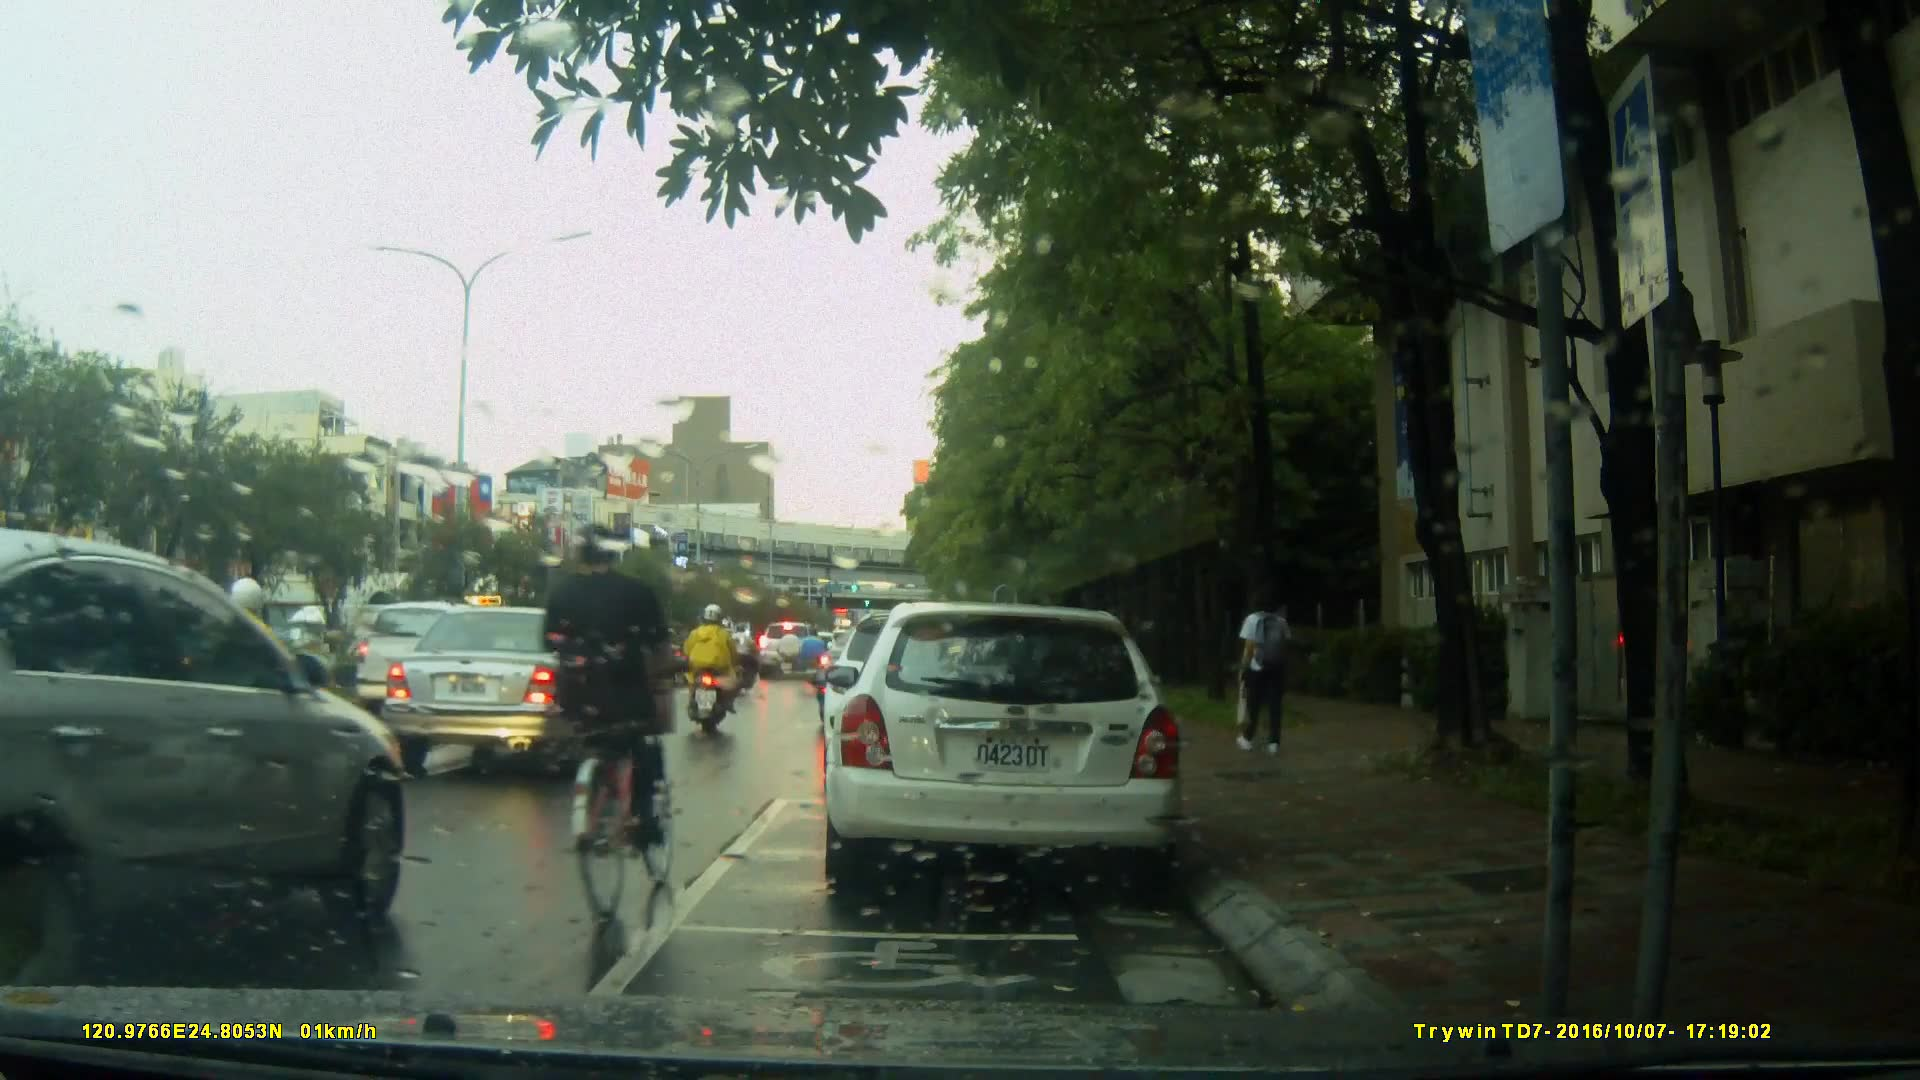pedestrian: (1237, 579, 1299, 758)
rider: (542, 517, 678, 929), (682, 598, 745, 742), (720, 617, 751, 702), (804, 619, 831, 701)
vehicle: (2, 528, 405, 986), (820, 602, 1188, 898), (381, 604, 648, 775), (353, 601, 534, 716)
